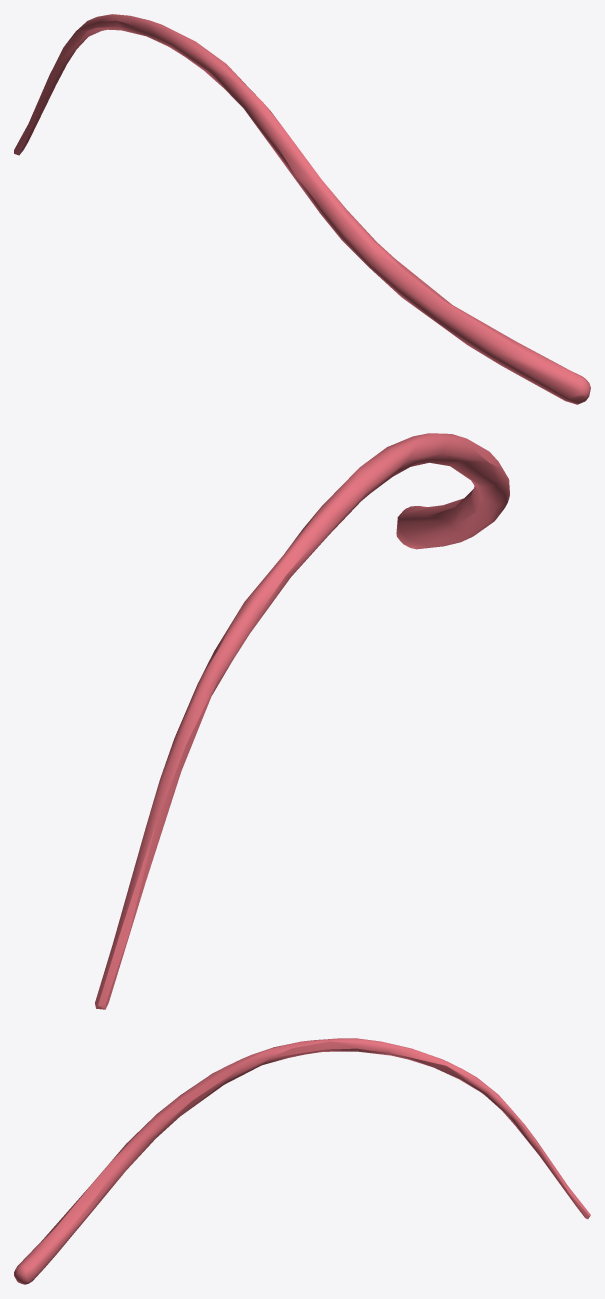
File: fma50697_fj1728m.glb
3 views of the same model, one above another, from view 1: azimuth 30°, elevation 25°; view 2: azimuth 150°, elevation 25°; view 3: azimuth 270°, elevation 25° (orthographic). The views are drawn at different scales.
Parts seen in each view (by area): view 1: FMA50697_FJ1728M; view 2: FMA50697_FJ1728M; view 3: FMA50697_FJ1728M.
Boxes of the visible parts, box(x1,y1,x2,y2) form: FMA50697_FJ1728M: box(14, 14, 590, 404); FMA50697_FJ1728M: box(95, 433, 509, 1009); FMA50697_FJ1728M: box(14, 1038, 590, 1284).
Bounding box in the file's own units: 0.012 × 0.0145 × 0.0415.
